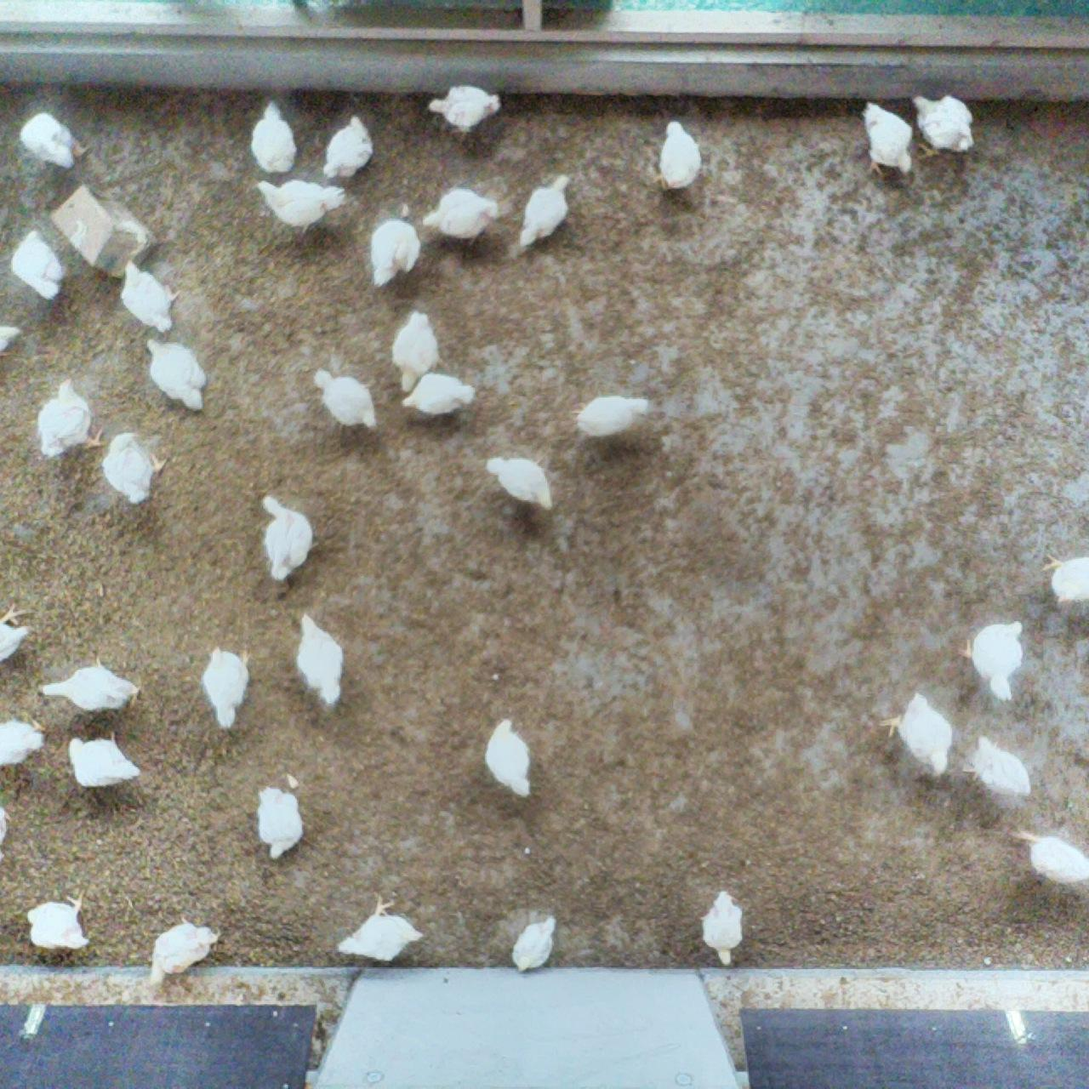chicken: (879, 688, 954, 779), (336, 892, 430, 963), (37, 655, 140, 718), (36, 373, 106, 463), (960, 616, 1028, 704), (254, 172, 350, 232), (149, 910, 224, 986), (100, 428, 170, 507), (142, 333, 210, 414), (294, 611, 349, 709), (422, 186, 504, 251), (388, 306, 447, 394), (200, 639, 253, 733), (1008, 824, 1089, 884), (260, 492, 315, 580), (116, 260, 181, 334), (6, 225, 68, 302), (66, 728, 143, 790), (862, 97, 918, 182), (310, 366, 382, 432), (912, 92, 978, 163), (250, 782, 304, 866), (482, 712, 533, 799), (964, 734, 1035, 796), (698, 885, 749, 970), (23, 888, 90, 952), (517, 170, 571, 249), (572, 391, 654, 442), (248, 94, 298, 177), (368, 217, 423, 292), (650, 119, 704, 194), (486, 451, 552, 512), (17, 112, 87, 169), (426, 83, 503, 133), (400, 371, 478, 419), (322, 112, 375, 179), (510, 910, 561, 975), (1038, 549, 1089, 607), (0, 596, 35, 667), (0, 716, 47, 768), (0, 321, 25, 358)
